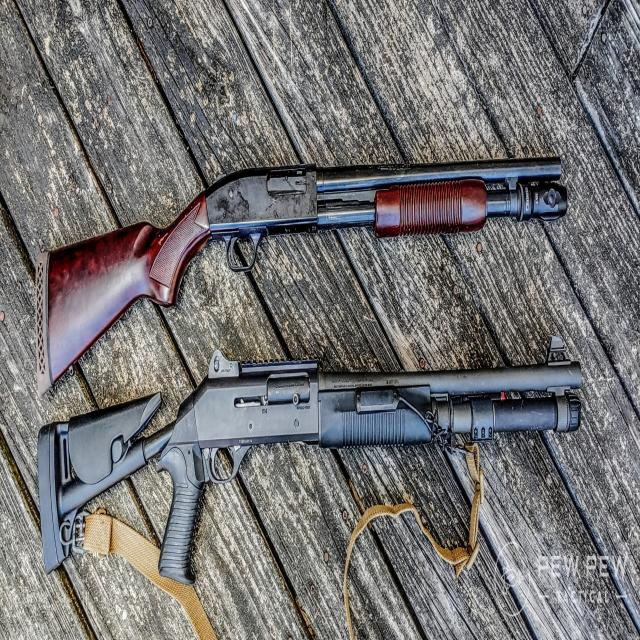ShotGun: (36, 353, 583, 585), (46, 165, 568, 379)
